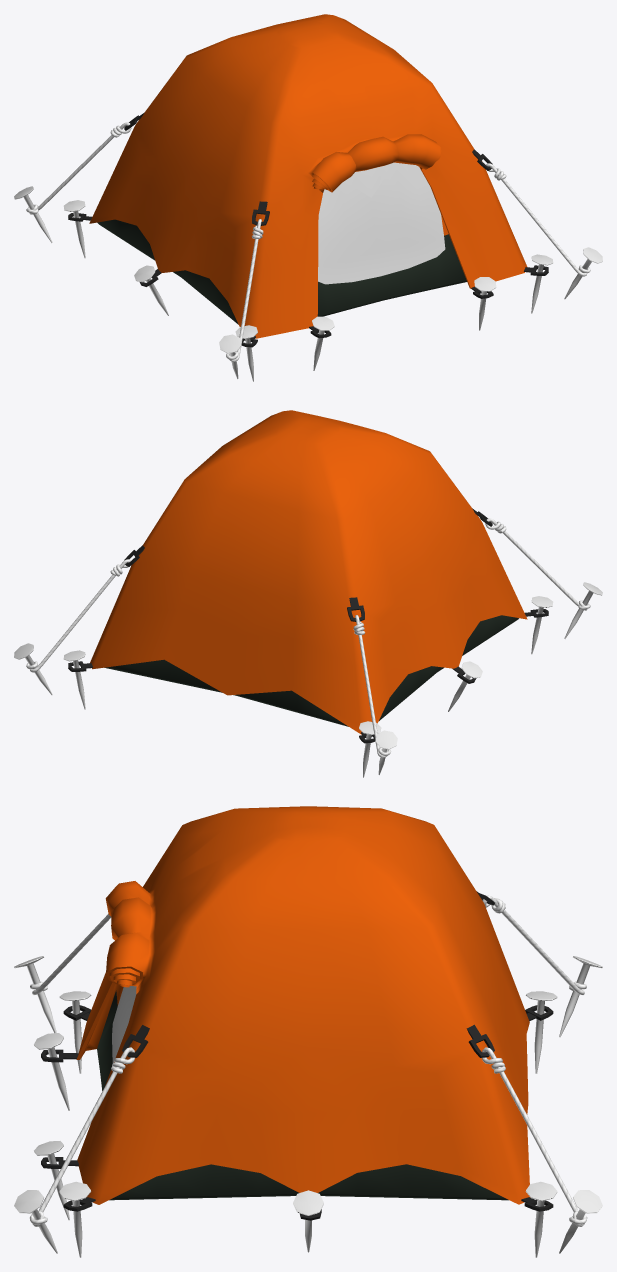
File: Tent_2.fbx
3 renders of one model, top to bottom at view 1: azimuth 30°, elevation 25°; view 2: azimuth 150°, elevation 25°; view 3: azimuth 270°, elevation 25°, orthographic. The views are drawn at different scales.
Parts seen in each view (by area): view 1: Cube, Cube.003, Cylinder, Cube.004, Cube.006; view 2: Cube, Cube.003, Cylinder, Cube.006; view 3: Cube, Cube.003, Cylinder, Cube.004, Cube.006, Cube.007.
Boxes of the visible parts, x1,y1,x2,y2 form: Cube: (89, 14, 527, 338); Cube.003: (14, 186, 602, 381); Cylinder: (26, 122, 590, 361); Cube.004: (134, 265, 496, 370); Cube.006: (68, 112, 548, 347); Cube: (90, 410, 527, 734); Cube.003: (14, 582, 602, 777); Cylinder: (26, 518, 590, 757); Cube.006: (68, 508, 548, 743); Cube: (76, 806, 530, 1204); Cube.003: (14, 956, 602, 1257); Cylinder: (29, 895, 587, 1226); Cube.004: (34, 1033, 323, 1252); Cube.006: (63, 891, 553, 1211); Cube.007: (41, 1049, 321, 1220).
Bounding box in the file's own units: 315 × 200 × 311.
